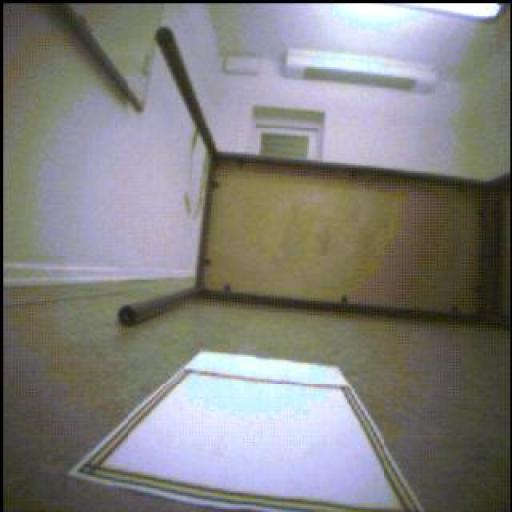Pad: (110, 343, 422, 512)
